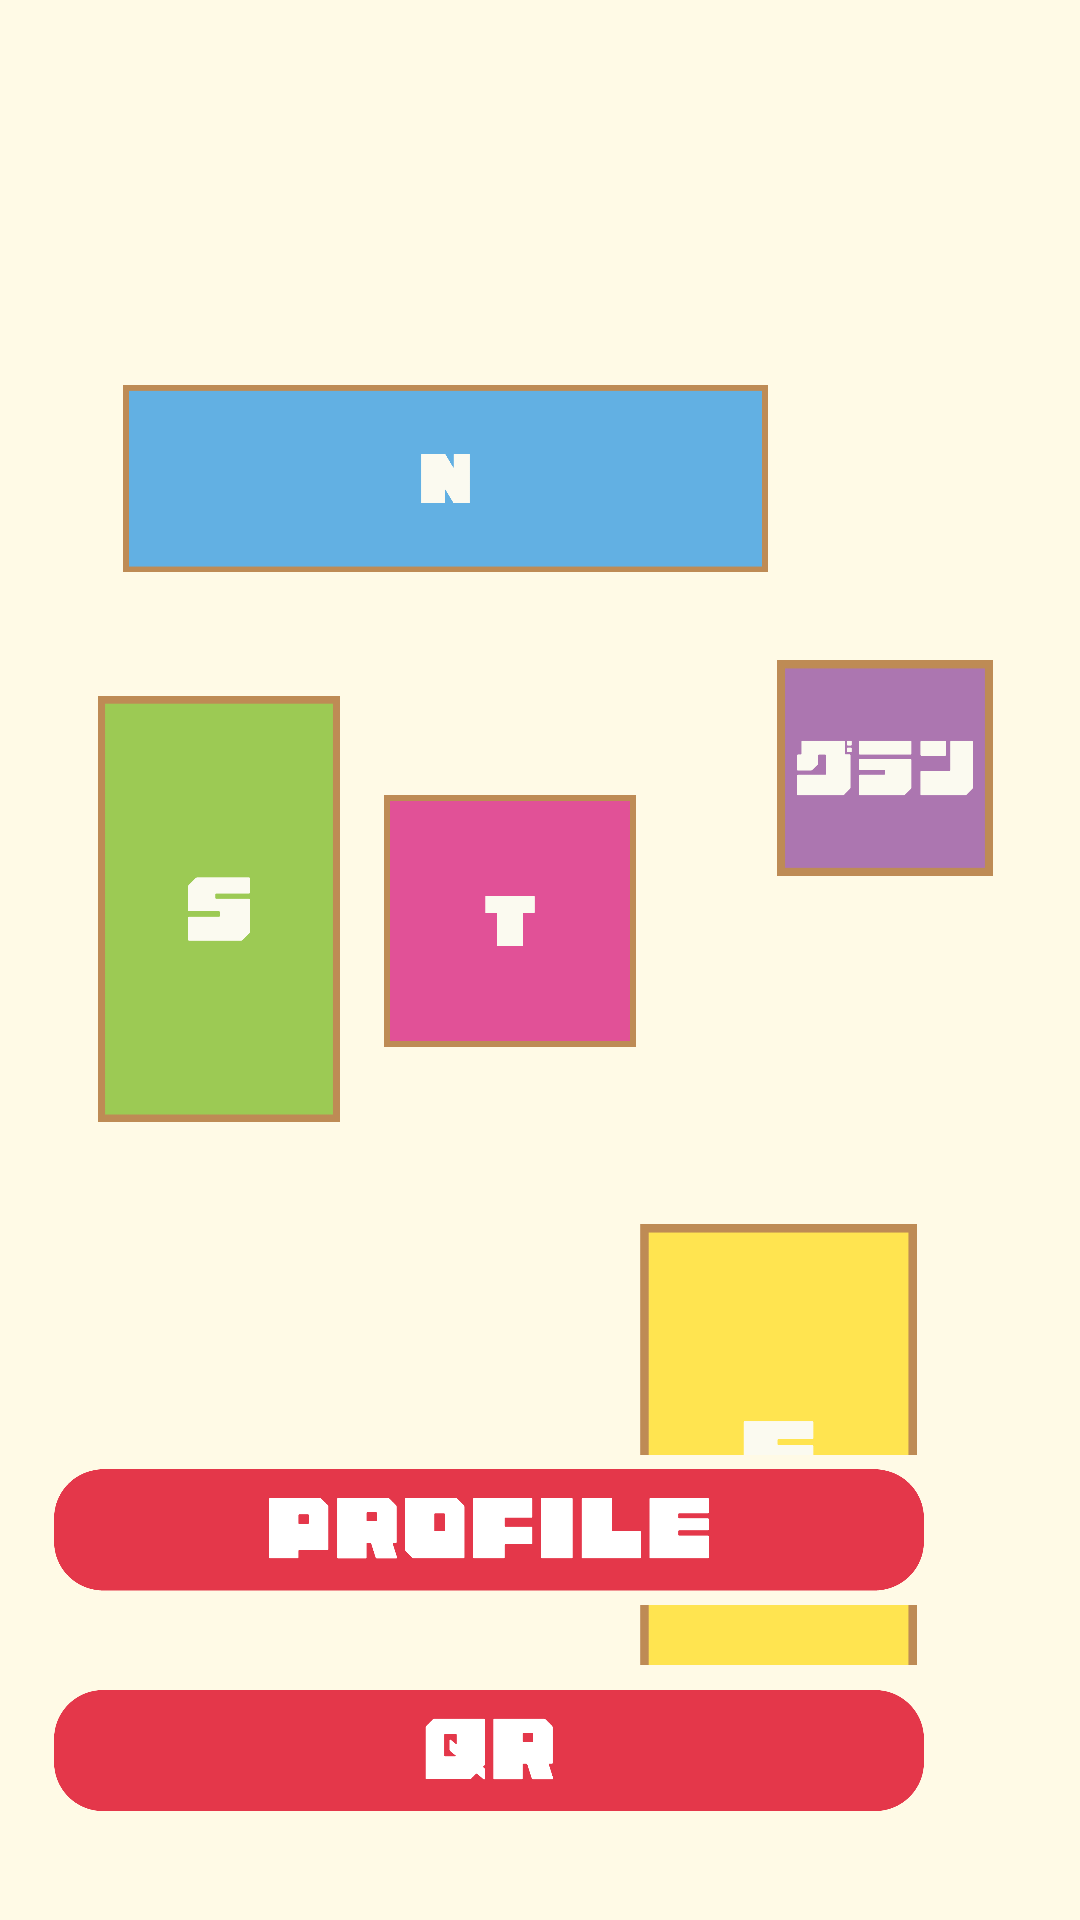

Locate icon controls on the screen. Image size 1080 × 1920, boxes as region(x1, y1, x2, y2).
このボタンはタワーのボタンです: region(384, 795, 636, 1047)
